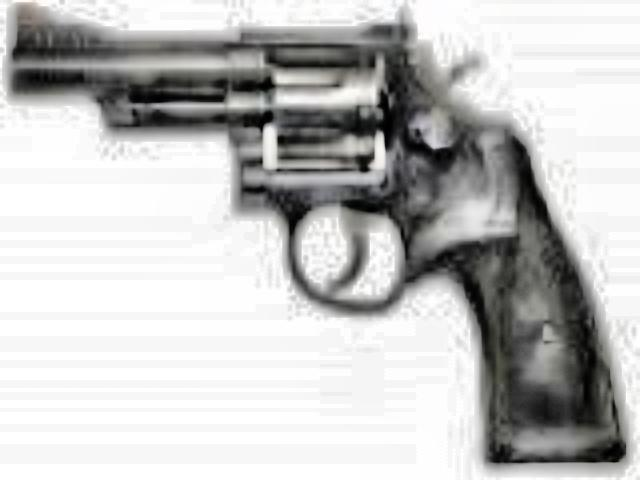pistol: (12, 0, 628, 468)
